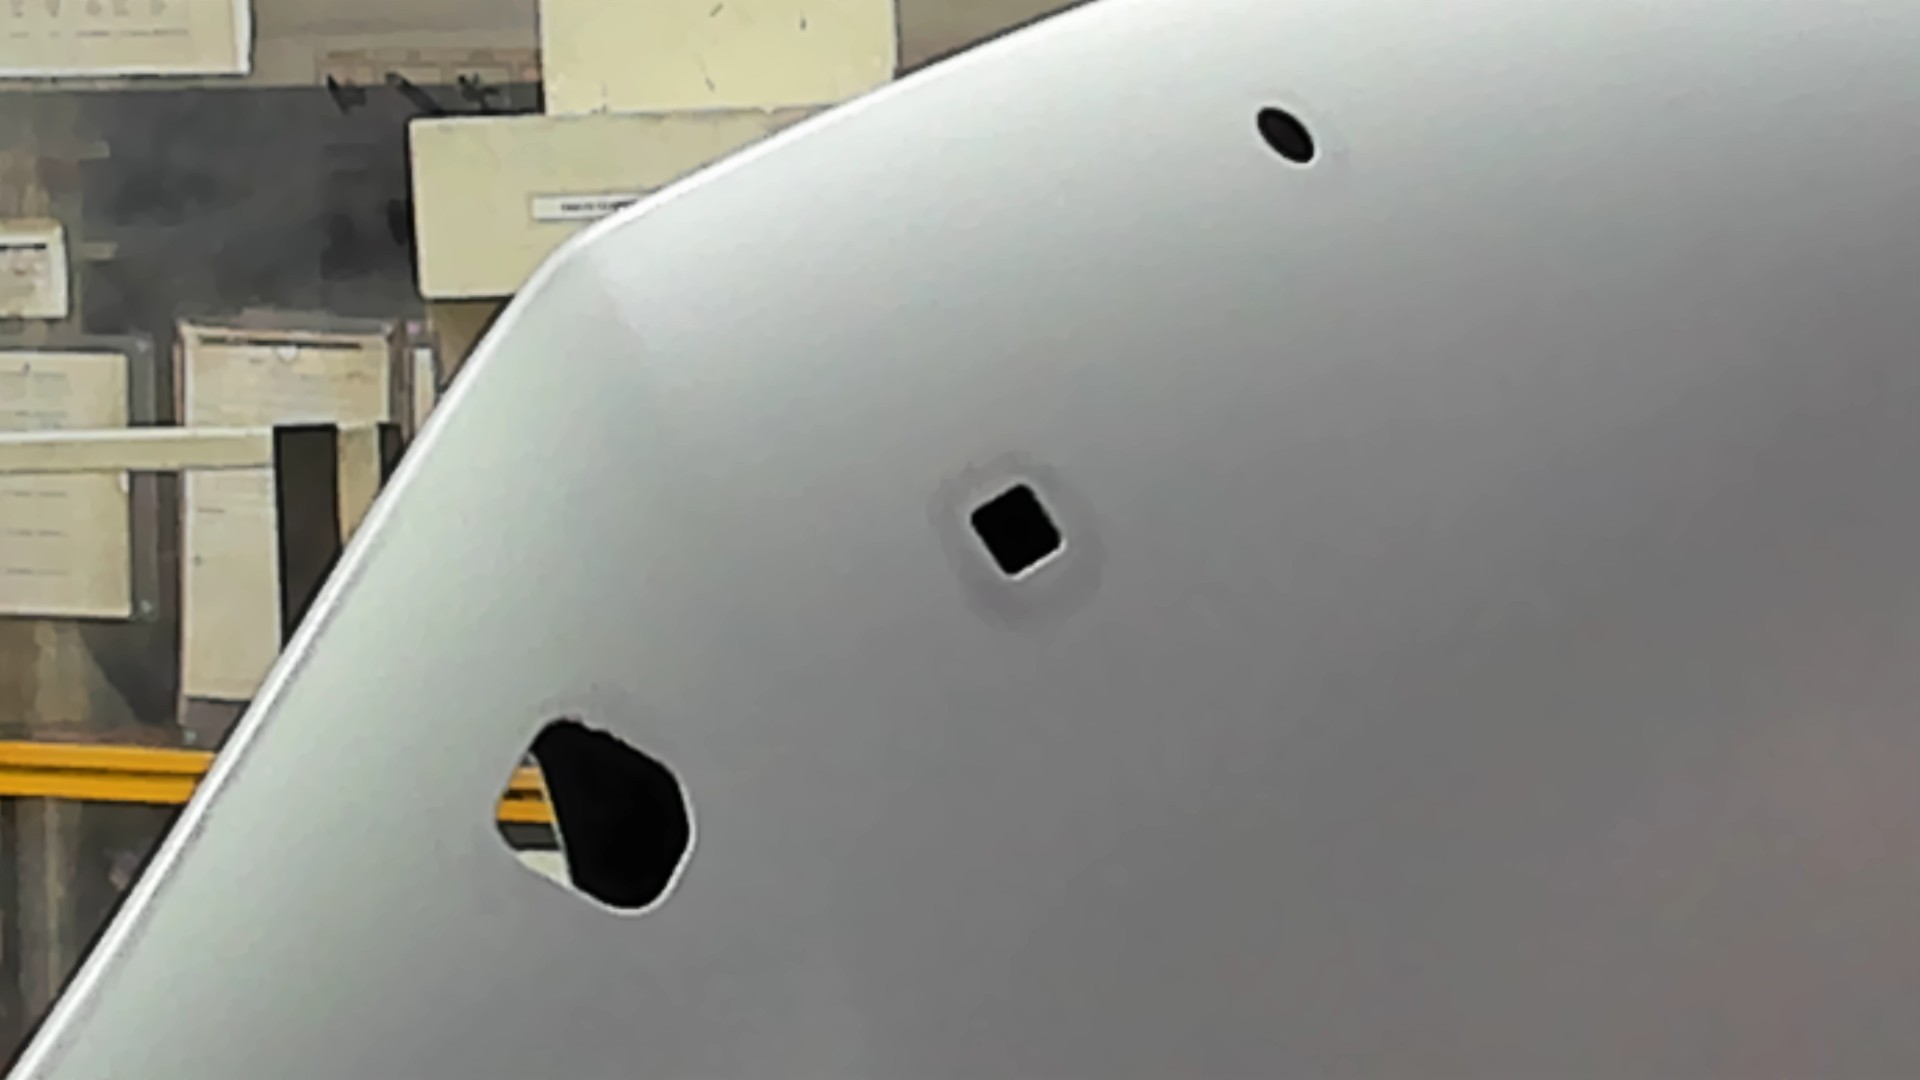capo: (1069, 171, 1920, 1080)
chico: (1250, 98, 1324, 174)
grande: (488, 709, 704, 924)
mediano: (960, 473, 1071, 582)
